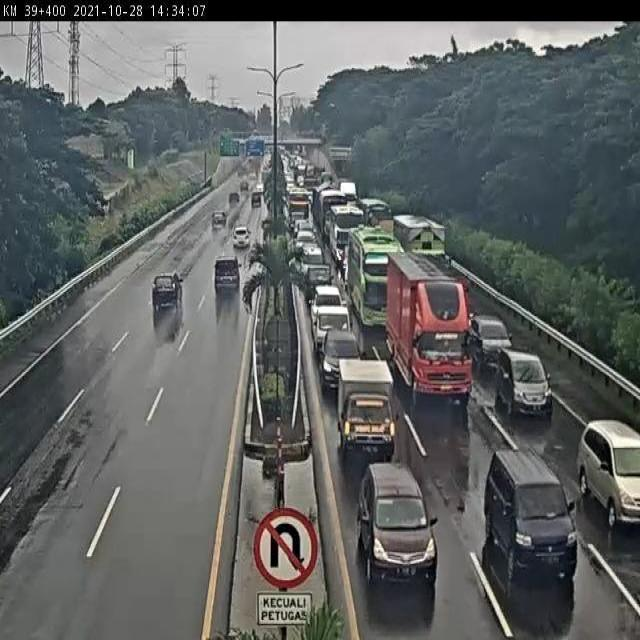ARABA: (481, 449, 581, 584), (353, 463, 439, 593), (577, 420, 640, 529), (335, 352, 395, 457), (494, 348, 550, 415), (320, 331, 361, 386), (313, 303, 352, 357), (466, 312, 508, 359), (146, 272, 185, 313), (298, 258, 330, 298), (210, 262, 241, 298), (307, 283, 346, 308), (448, 299, 471, 340), (227, 227, 253, 254), (296, 238, 320, 266), (294, 222, 312, 242)
OTOBUS: (348, 228, 401, 329), (329, 203, 364, 264)
TIR: (388, 248, 473, 401), (392, 216, 448, 284)
